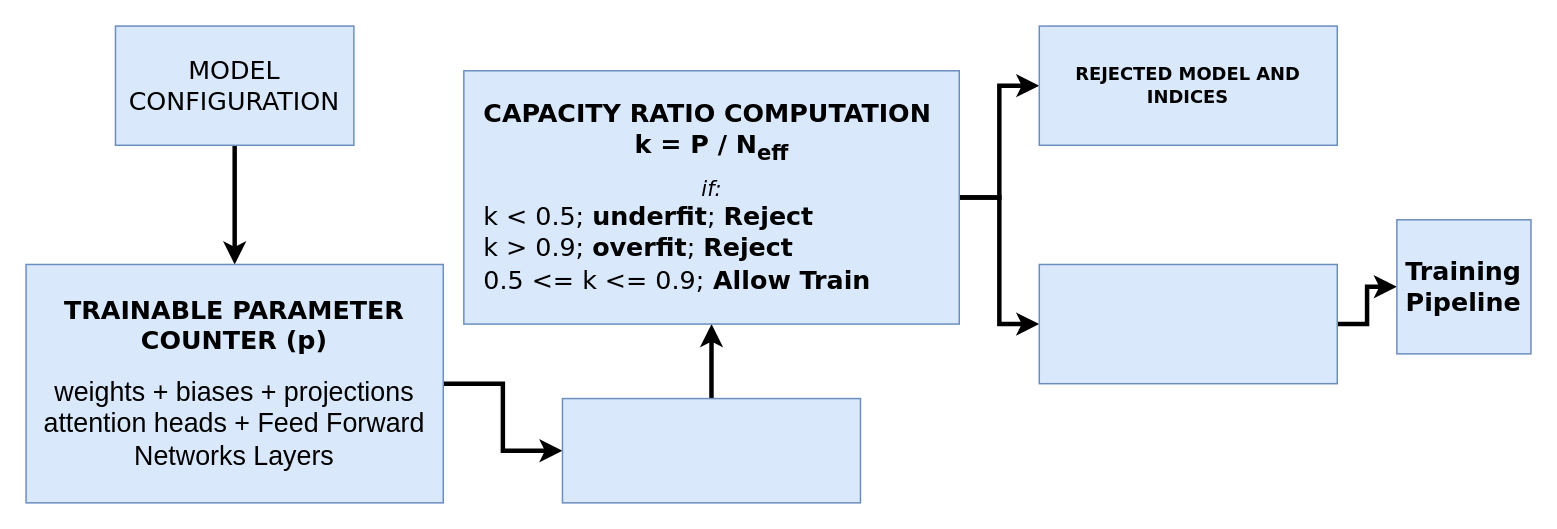
Some shapes in this 1557 by 529 pixel diagram are drawn without their labels. The centre of each missing label's shape, as x and y in pixels:
"ADMISSIBLE MODEL" belongs at [1187,323].
"Effective Sample Size N eff" belongs at [710,450].
